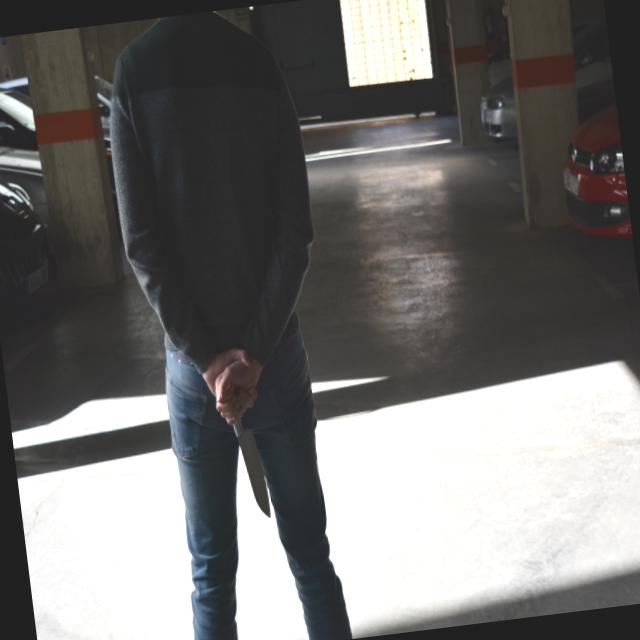knife: (226, 403, 274, 525)
